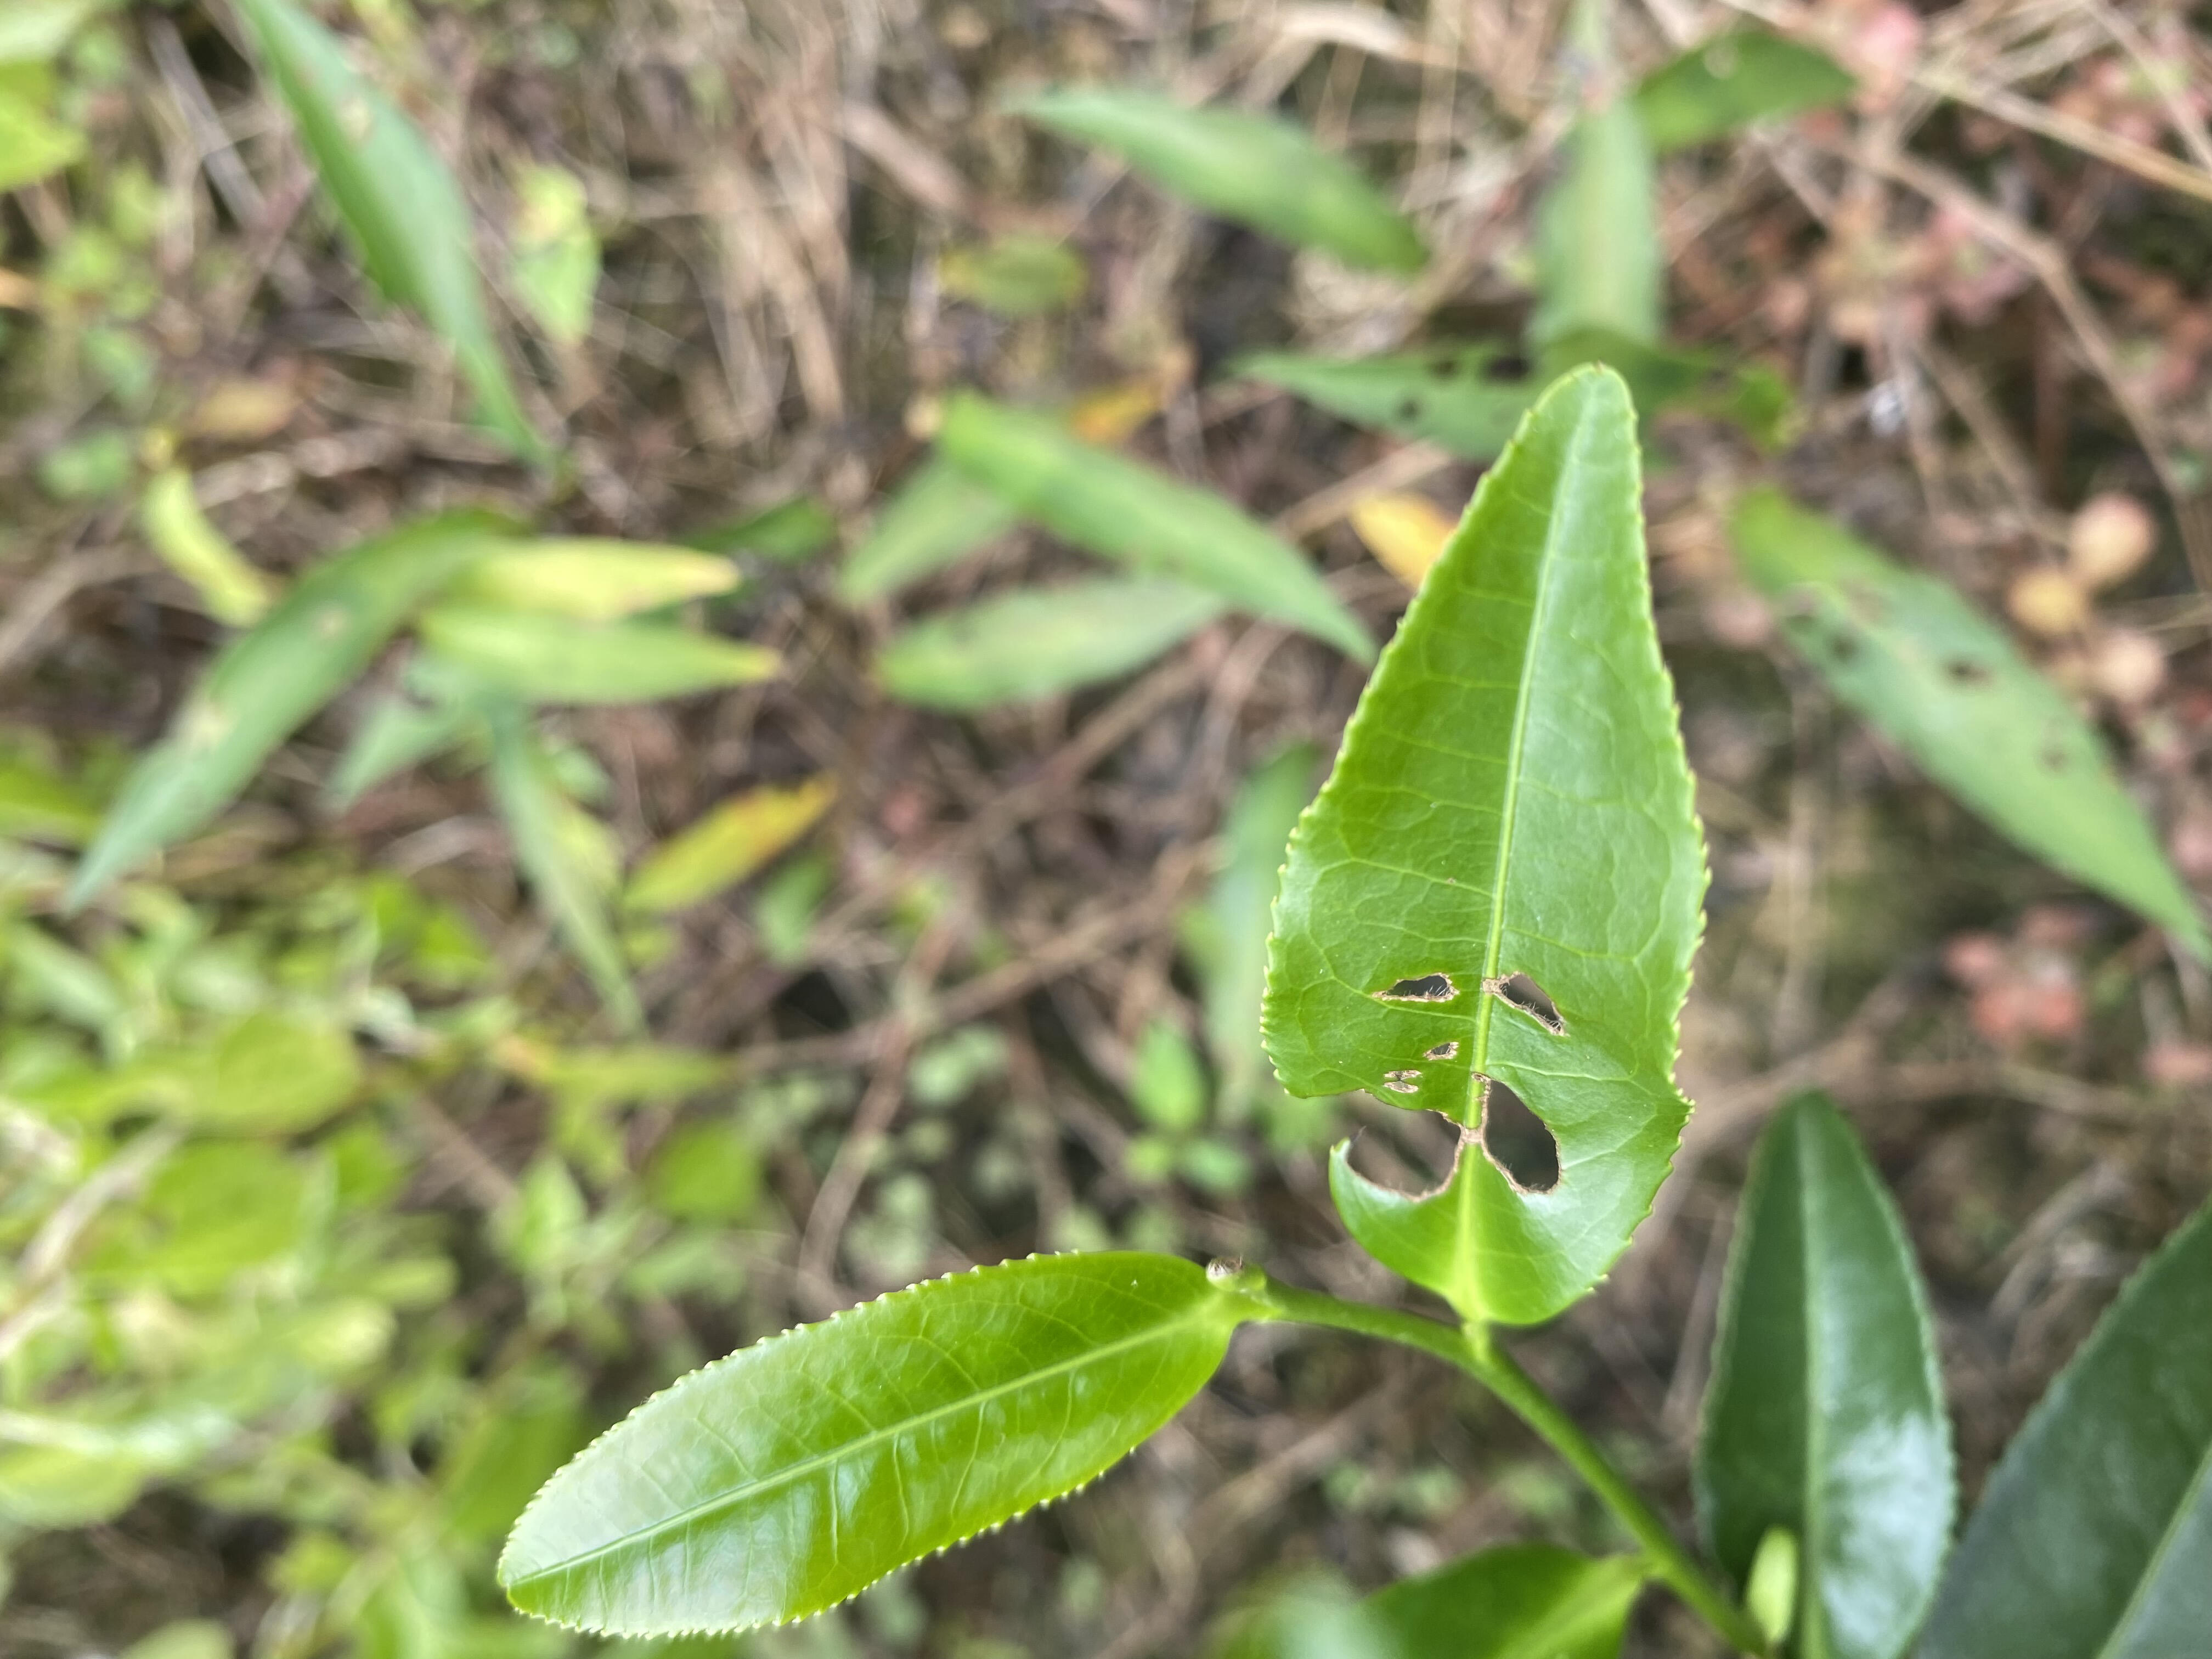chihuo_high: (1263, 361, 1714, 1331)
healthy: (493, 1248, 1235, 1643)
